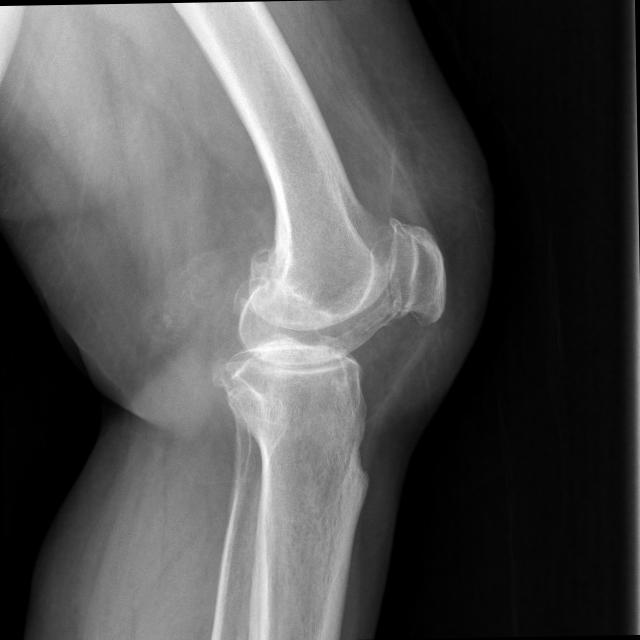Knee: (213, 206, 452, 438)
